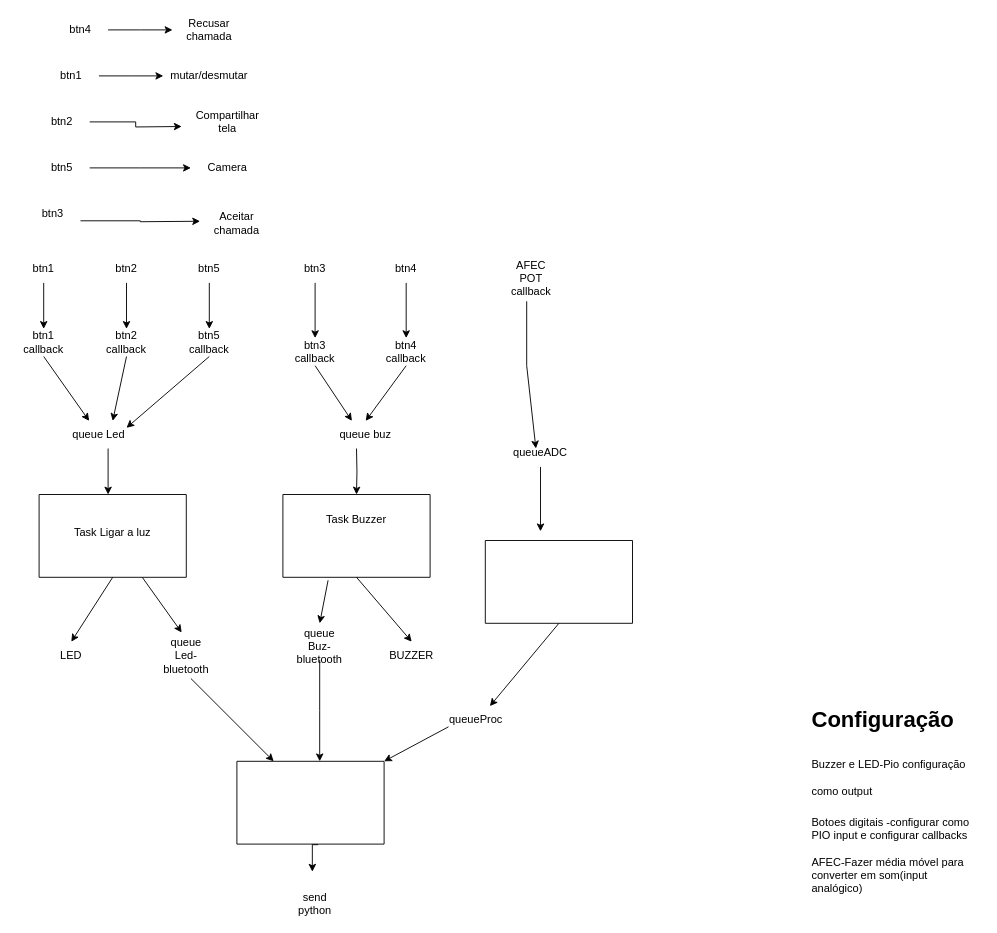
This 997x933 diagram has some shape labels left out. The shapes that lost their labels are listed below. From the top down, each one's centre as x and y in pixels, then its label:
point (558, 581): Task Proc
point (310, 802): Task Blueetooth
